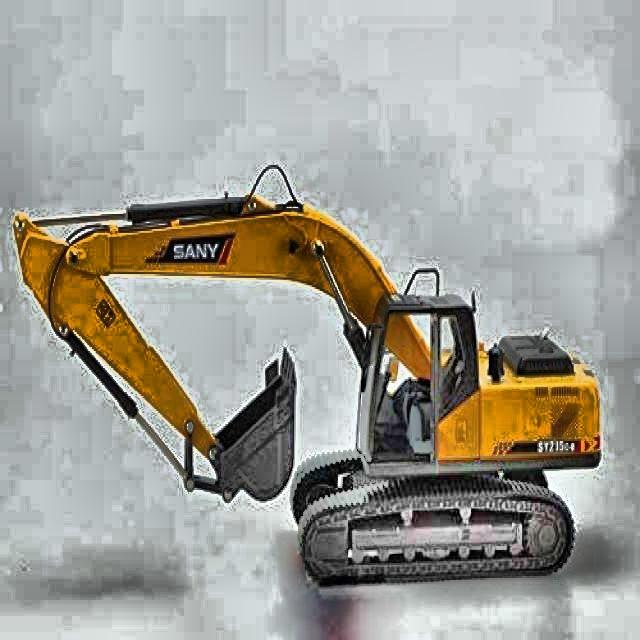excavator: (11, 181, 604, 591)
